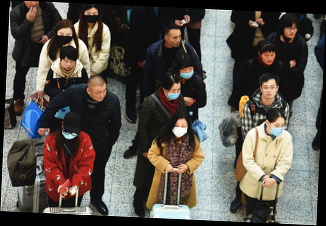with_mask: (171, 121, 188, 139), (269, 121, 286, 137), (179, 65, 196, 81), (56, 30, 73, 45), (165, 85, 181, 100), (83, 10, 98, 25), (60, 130, 77, 140)
without_mask: (260, 82, 278, 100), (91, 87, 107, 103), (259, 50, 275, 65), (168, 32, 182, 48), (284, 24, 297, 39), (60, 58, 75, 70)
